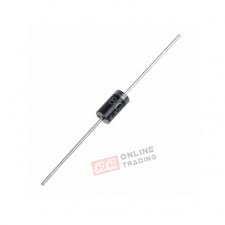diode: (79, 81, 141, 138)
